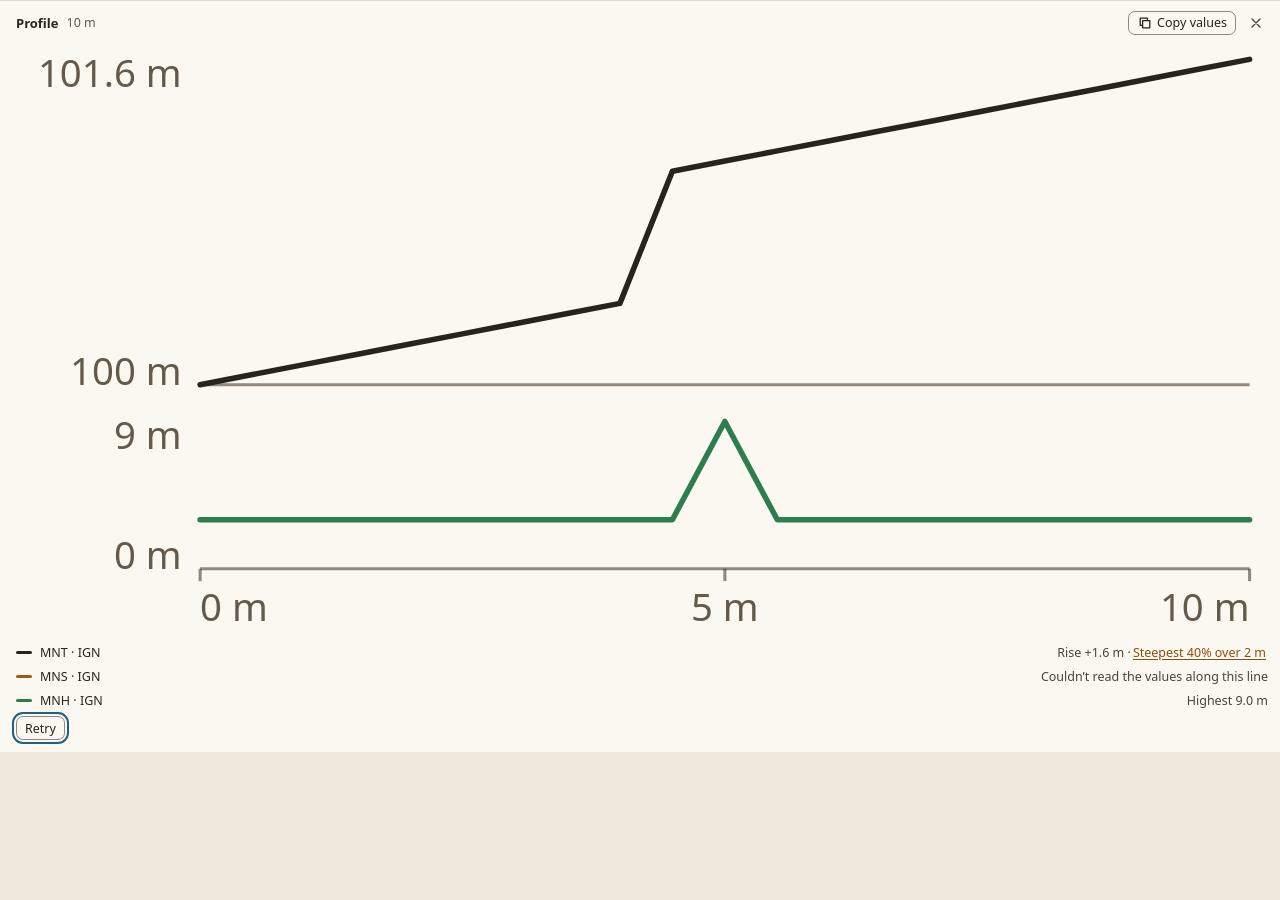
ProfileChart › a curve whose data could not be read says so in its legend line with one Retry under the legend, which draws it
This screenshot has width=1280, height=900.
Click the button "Retry": (40, 728) [16,716,65,740]
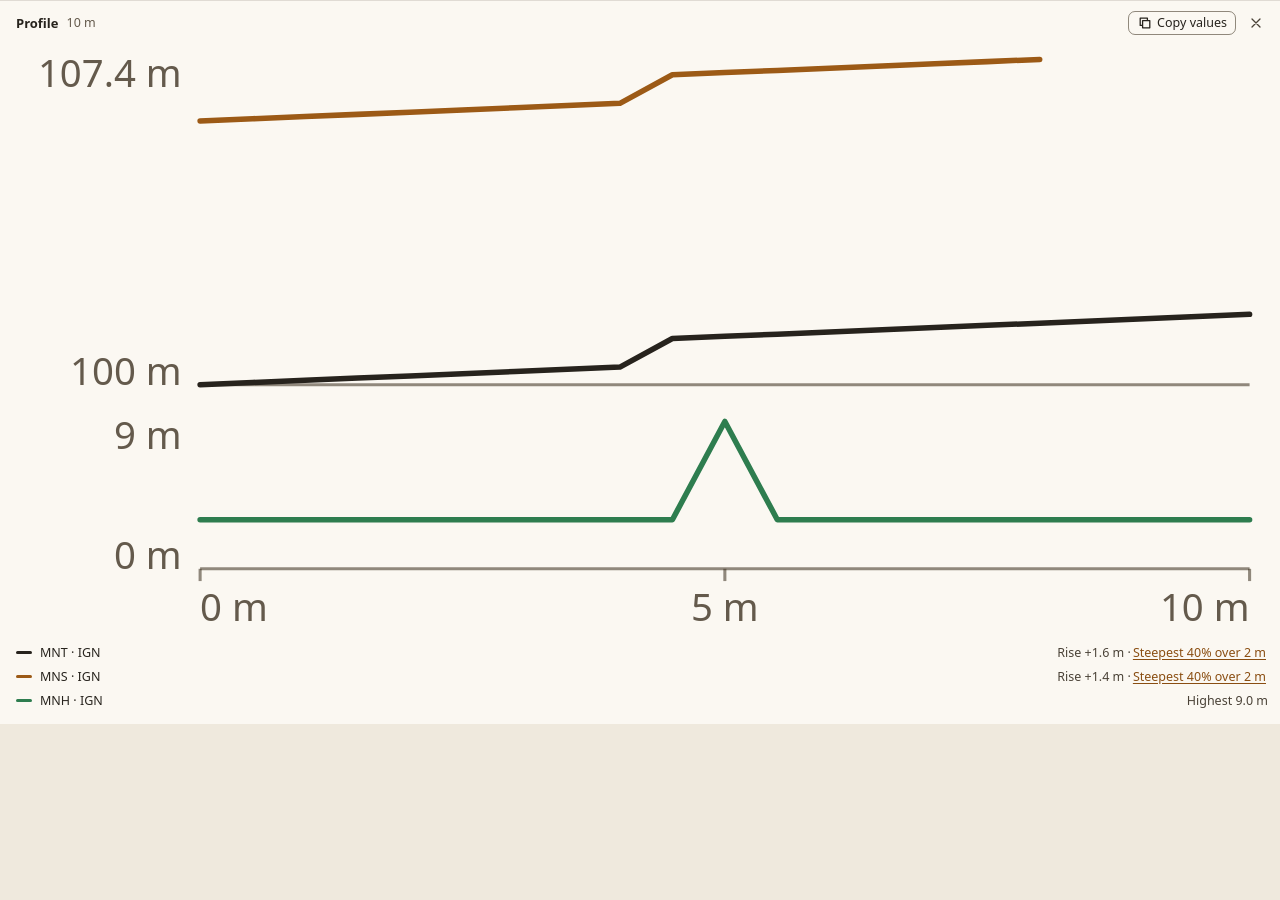
expect the text "Couldn’t read the values along this line" is gone: met
